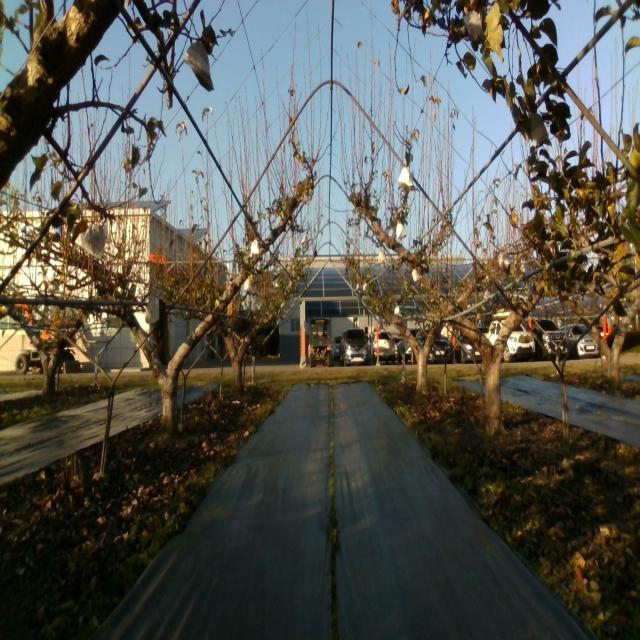pearbags: (185, 38, 214, 91), (73, 220, 105, 264), (527, 112, 552, 150), (464, 8, 484, 38), (398, 162, 412, 186), (498, 252, 512, 276)
